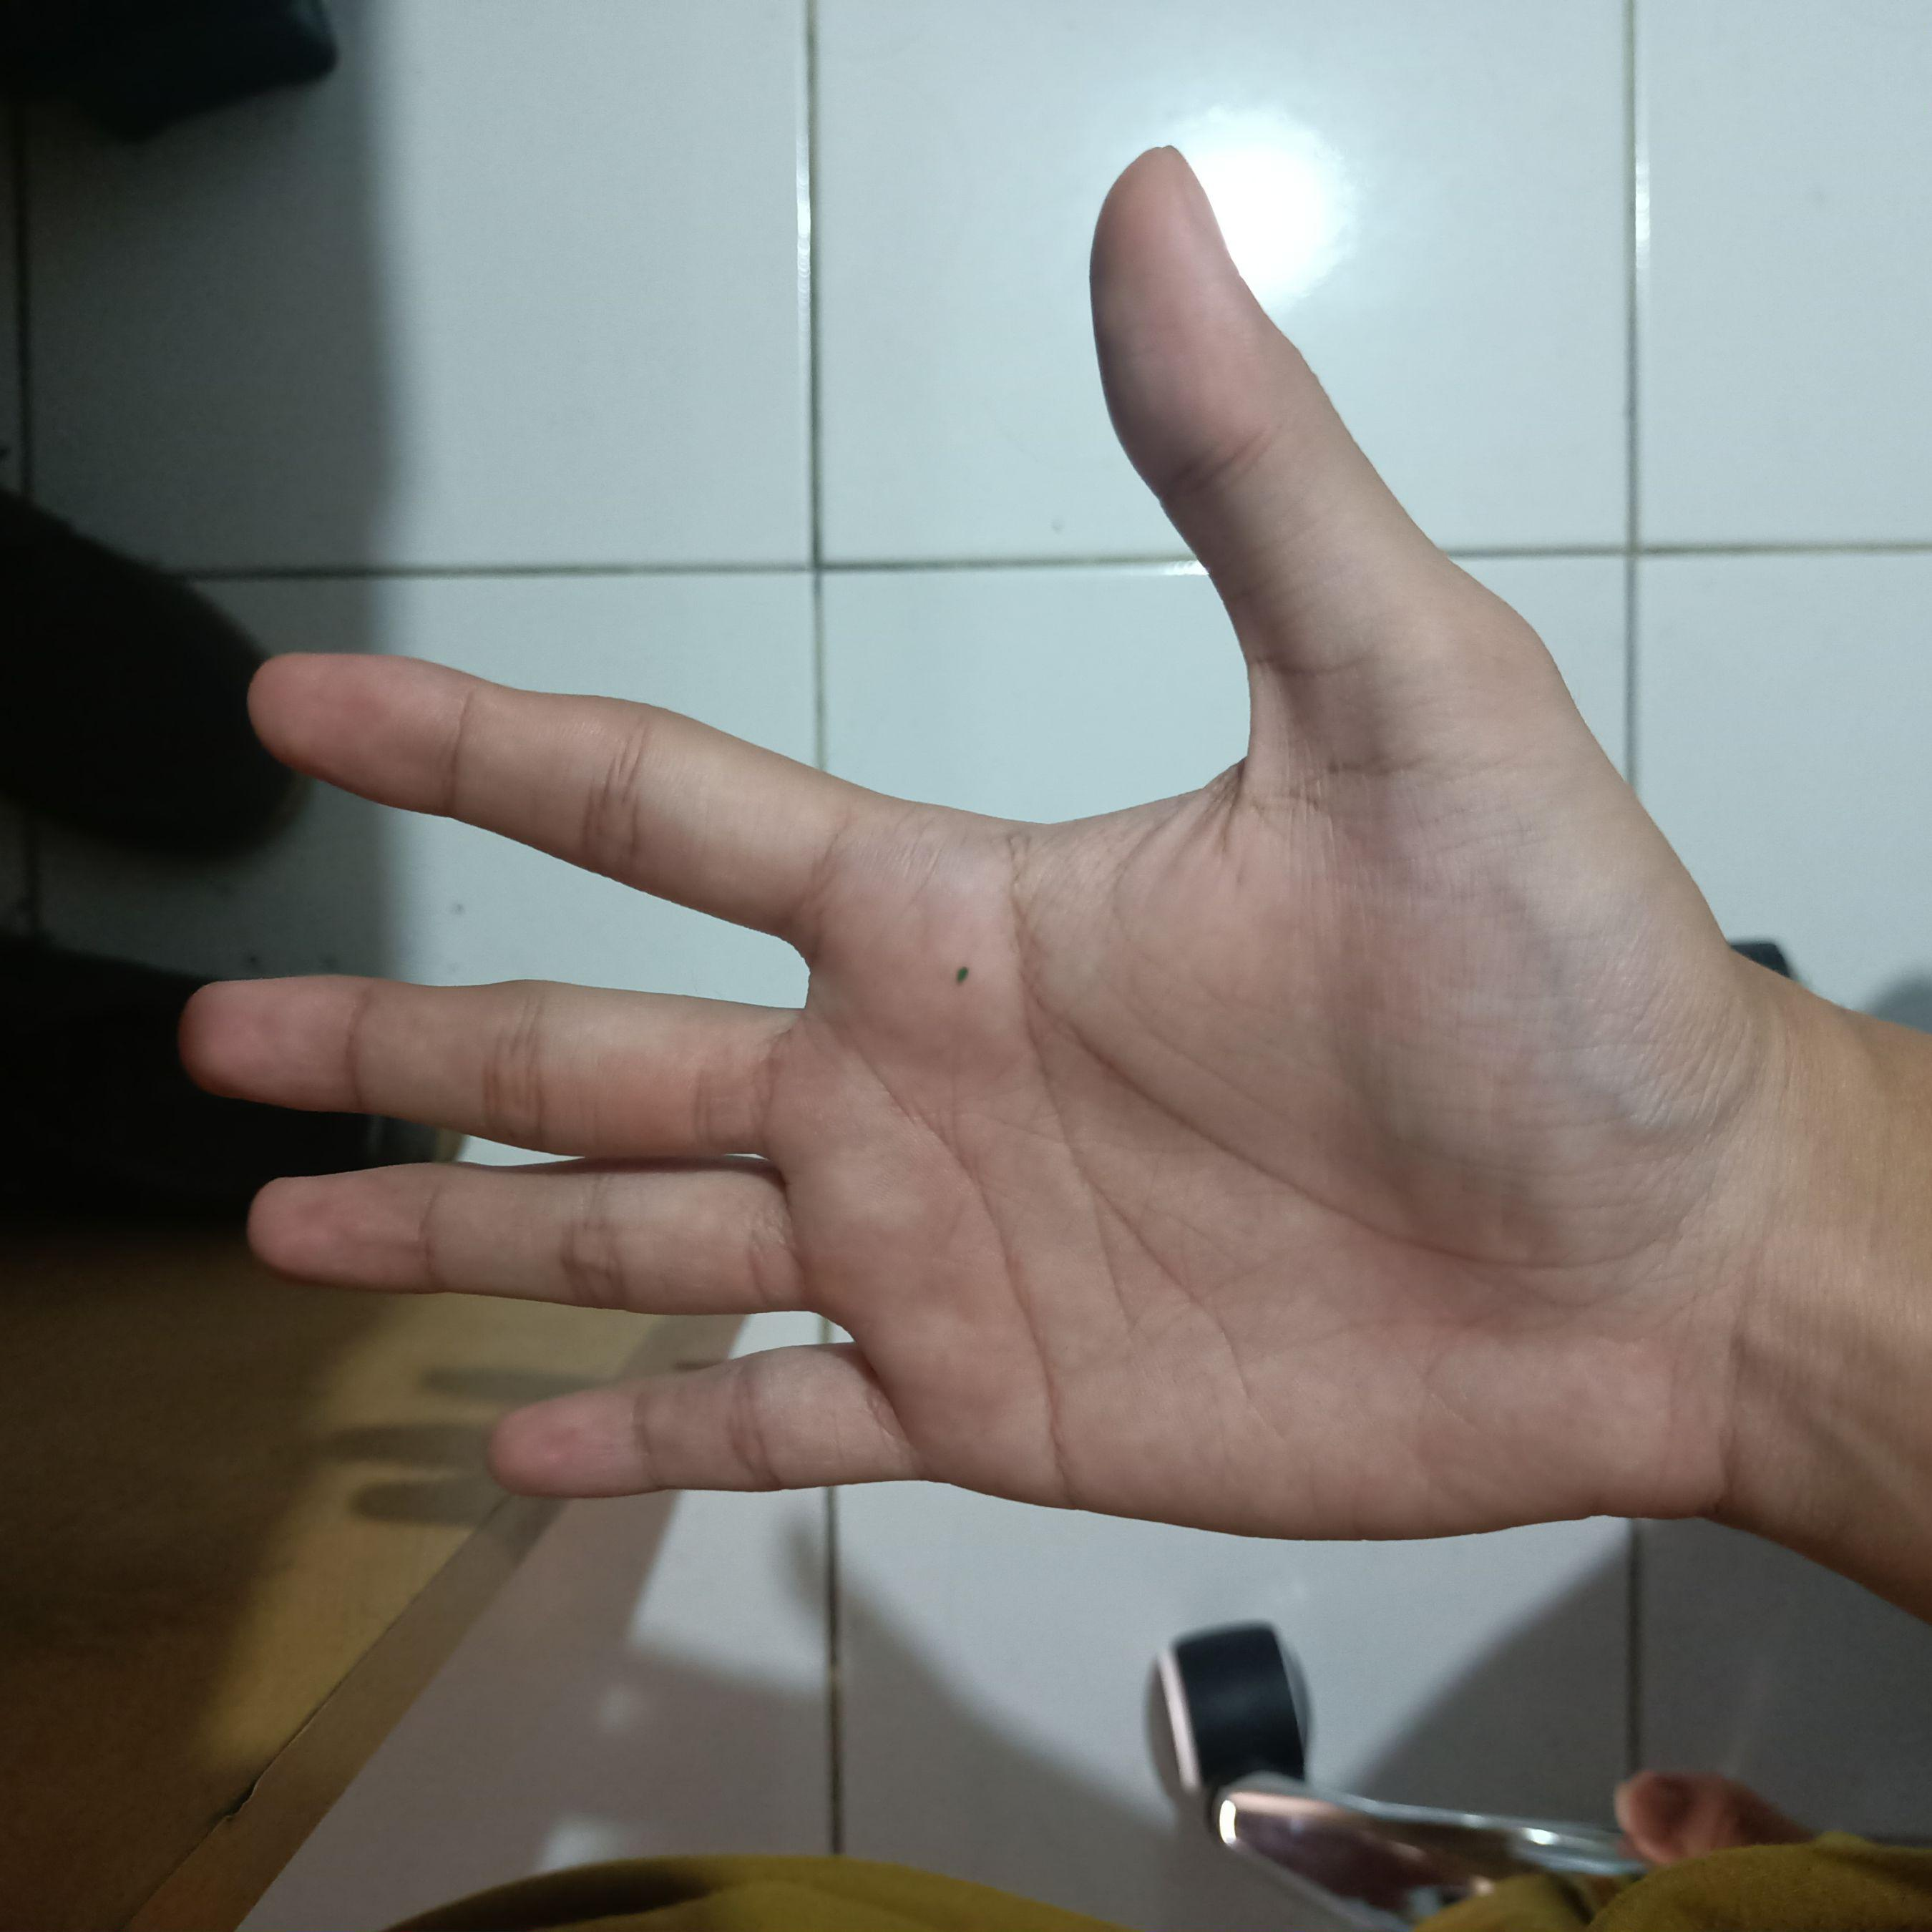paper: (143, 115, 1822, 1543)
